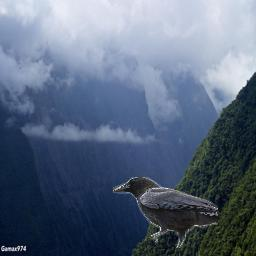Crow: (113, 177, 218, 248)
